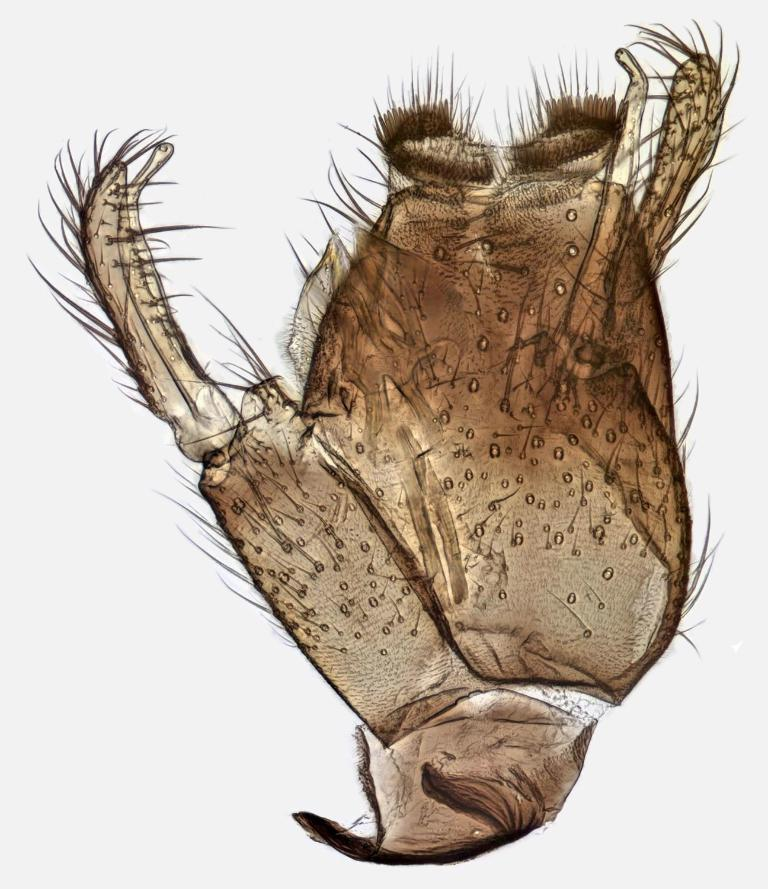Animal: (17, 20, 735, 851)
